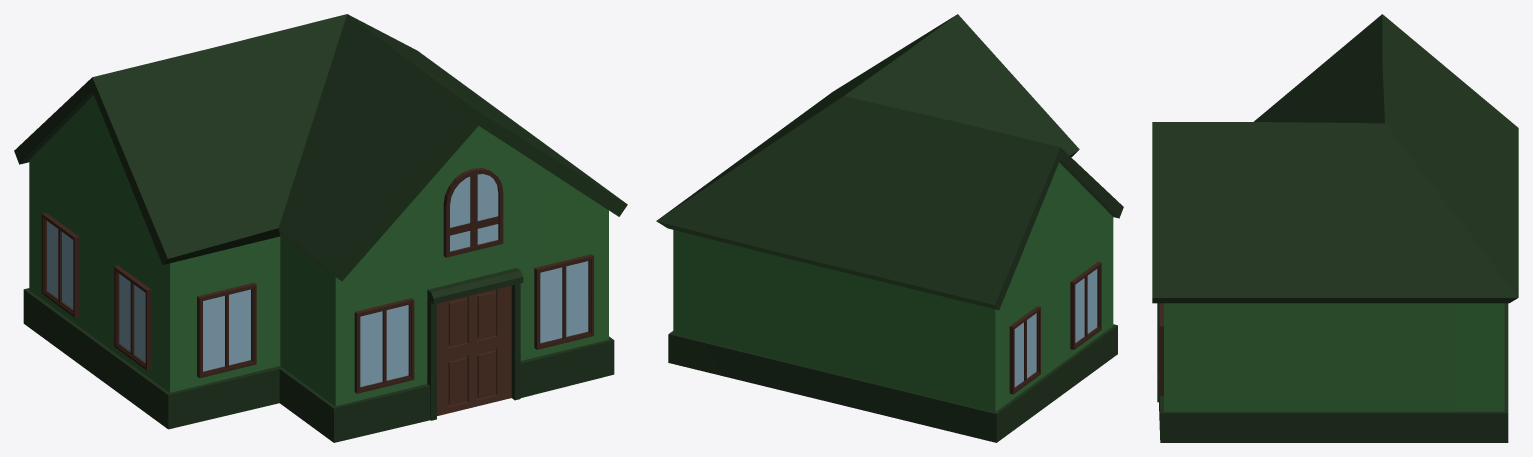
Rendered from Env_ResidentBuilding_03.fbx.
The picture shows the model from 3 angles, left to right: view 1: azimuth 30°, elevation 25°; view 2: azimuth 150°, elevation 25°; view 3: azimuth 270°, elevation 25°; orthographic projection. The views are drawn at different scales.
Visible parts, largest first — view 1: Env_ResidentBuilding_03; view 2: Env_ResidentBuilding_03; view 3: Env_ResidentBuilding_03.
Boxes of the visible parts, bbox=[...] form: Env_ResidentBuilding_03: bbox=[14, 14, 627, 442]; Env_ResidentBuilding_03: bbox=[656, 14, 1123, 442]; Env_ResidentBuilding_03: bbox=[1152, 14, 1518, 442].
Size of the model in its own units: 768 by 546 by 693.
Materials: 1 (1 with a texture image).
